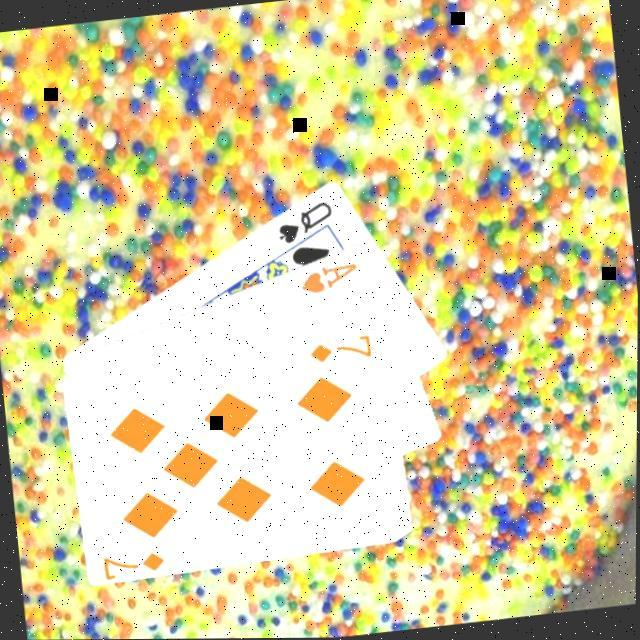7D: (307, 336, 378, 368), (102, 548, 171, 580)
AH: (298, 260, 365, 299)
QS: (274, 197, 340, 249)
